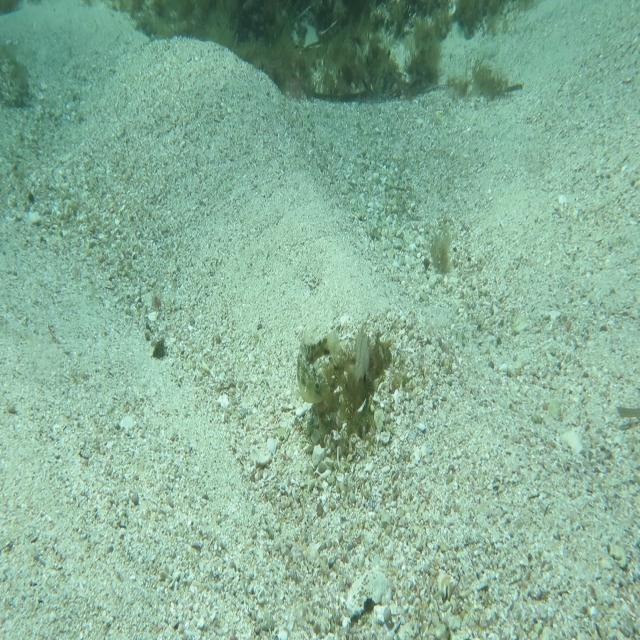BEND: (293, 320, 346, 409)
female: (343, 324, 374, 394)
nest: (287, 316, 398, 451)
vegetation: (131, 0, 527, 32), (261, 37, 440, 94), (426, 223, 455, 277)
